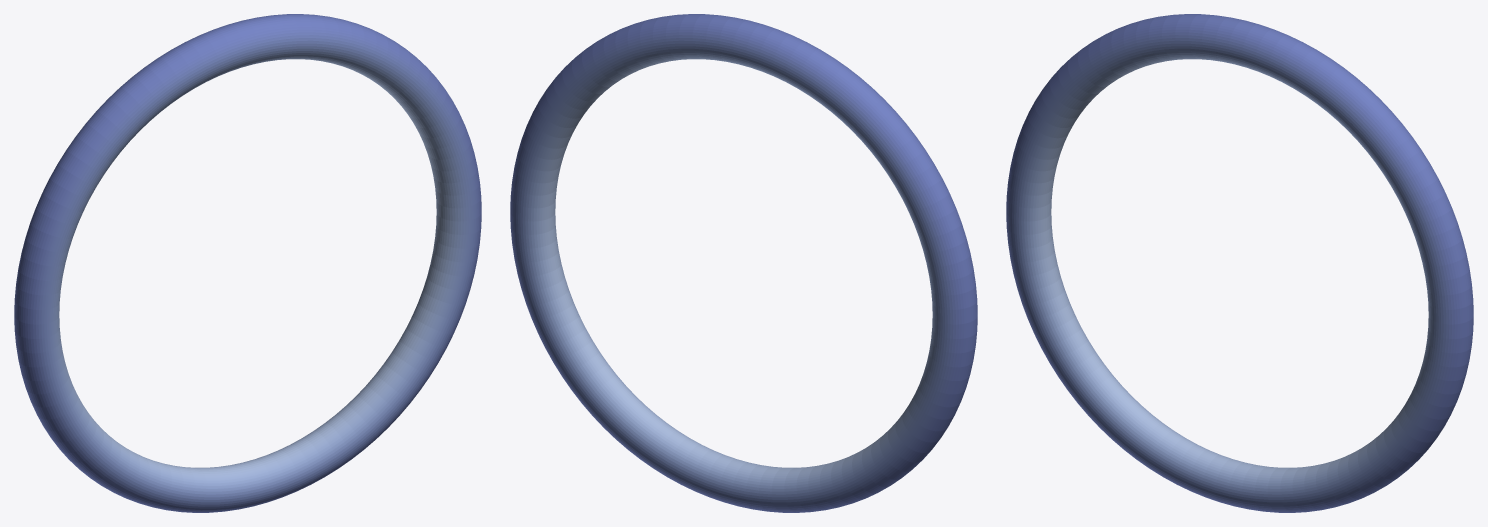
3 renders of one model, left to right at view 1: azimuth 30°, elevation 25°; view 2: azimuth 150°, elevation 25°; view 3: azimuth 330°, elevation 25°, orthographic.
Parts seen in each view (by area): view 1: world; view 2: world; view 3: world.
Boxes of the visible parts, bbox=[...] form: world: bbox=[14, 14, 481, 512]; world: bbox=[510, 14, 977, 512]; world: bbox=[1006, 14, 1473, 512].
Bounding box in the file's own units: 29.87 × 29.87 × 2.53.
